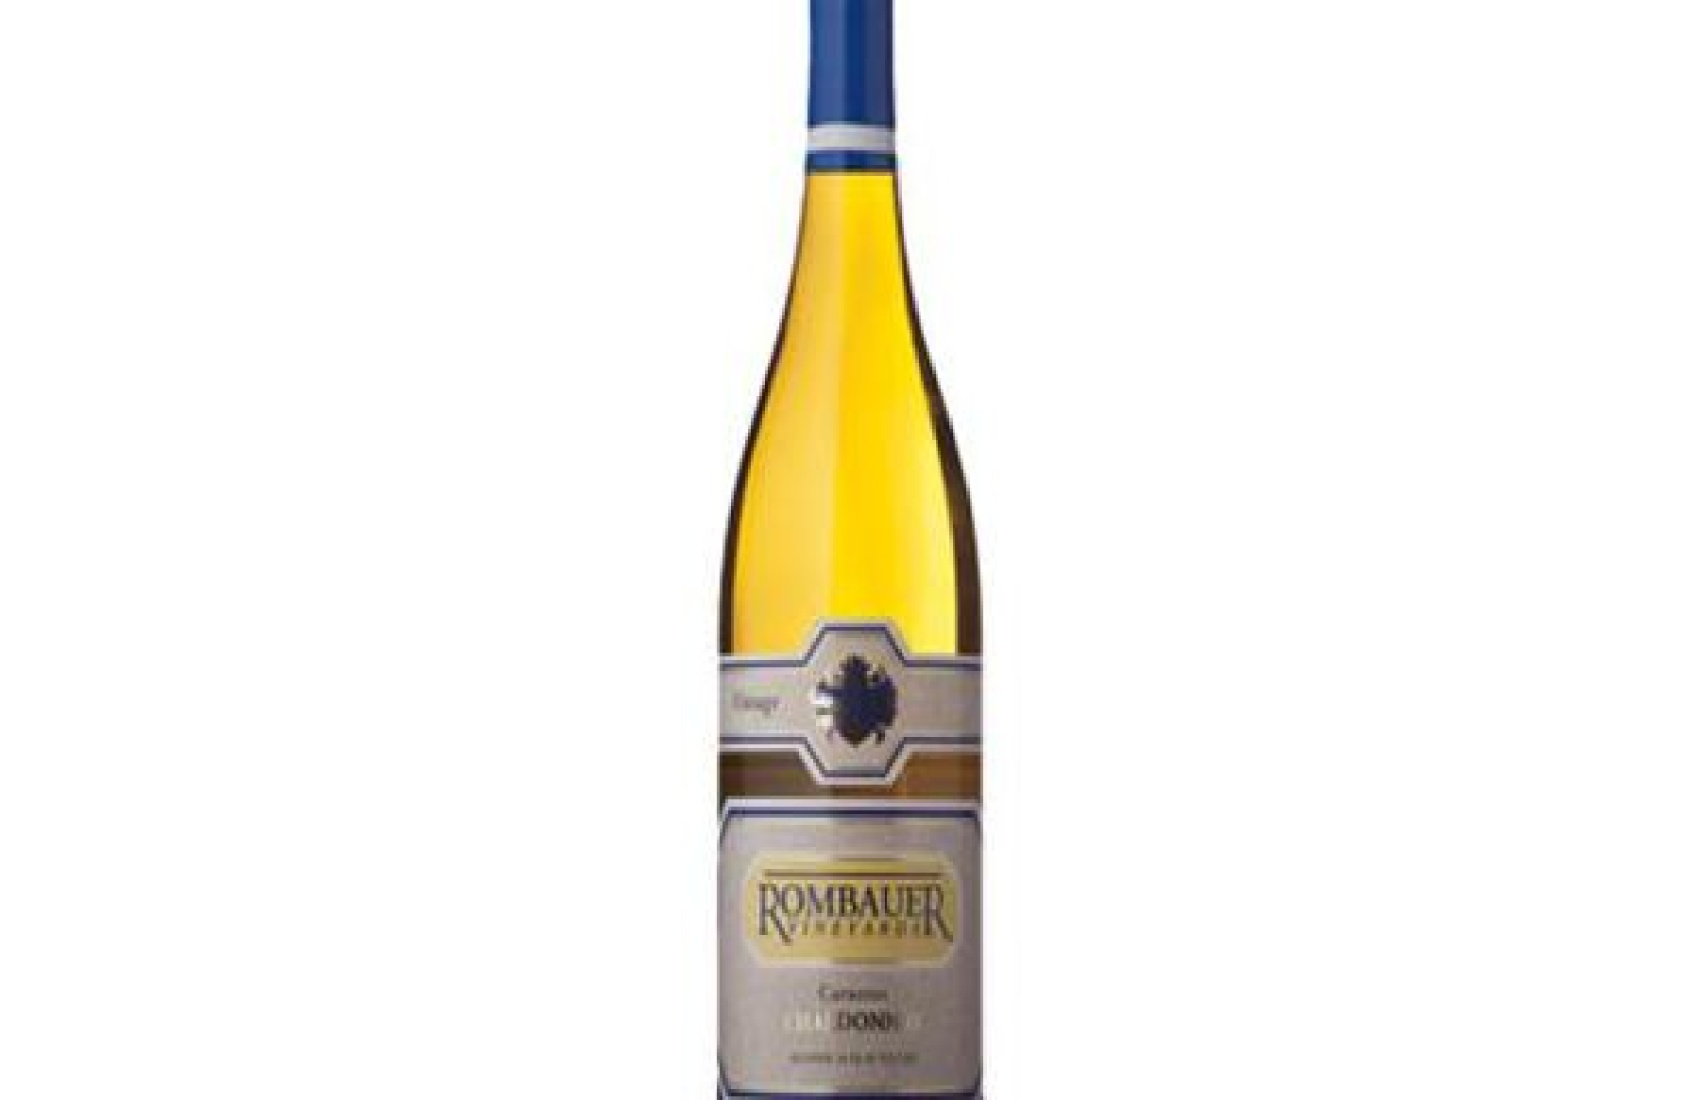wine: (715, 36, 981, 1100)
